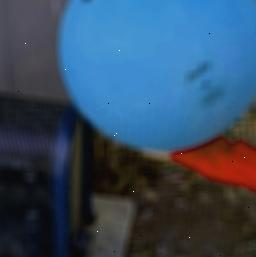algae: (51, 0, 256, 154)
